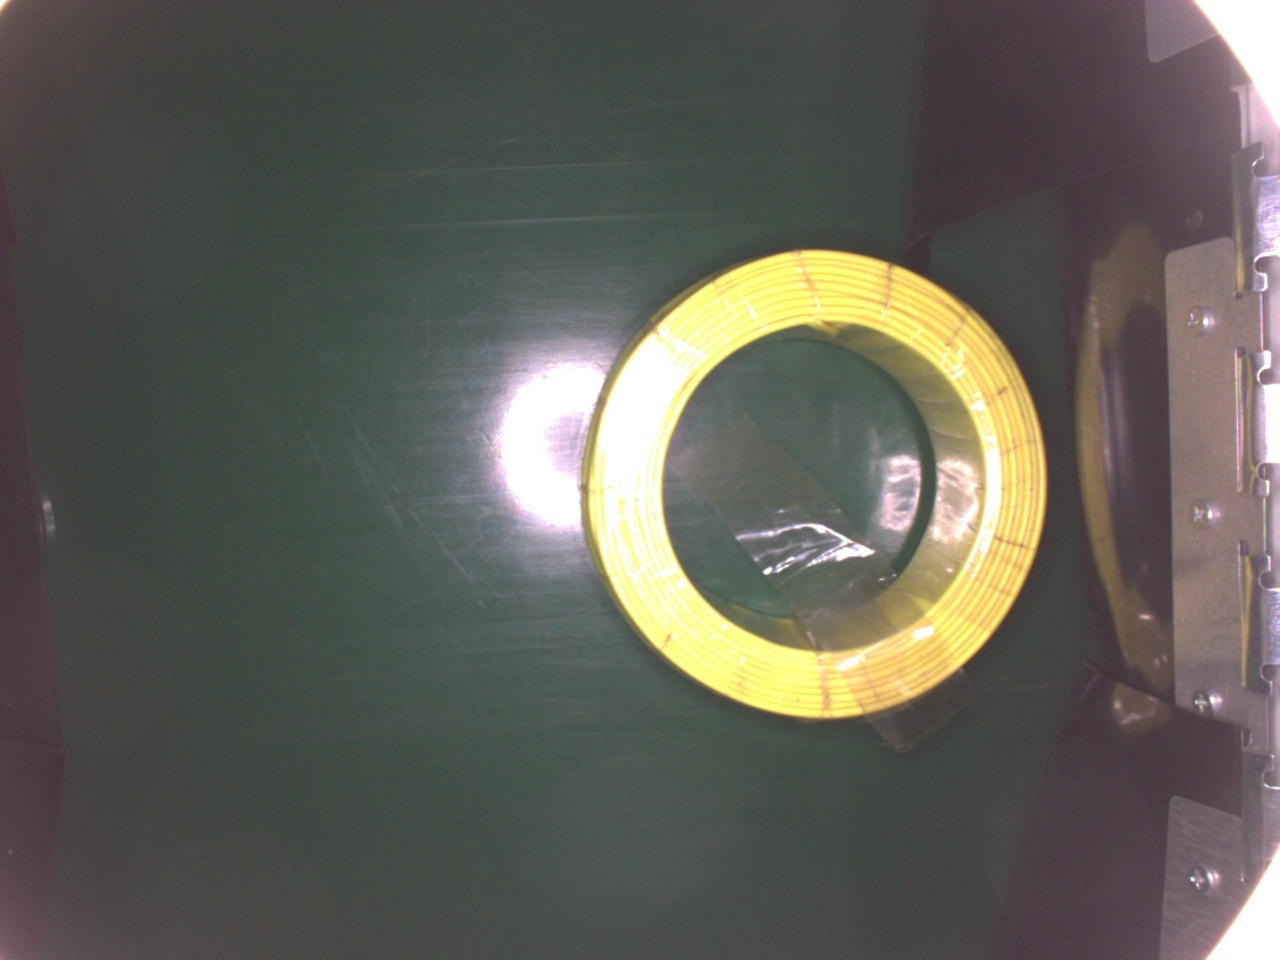yellow: (565, 239, 1056, 730)
